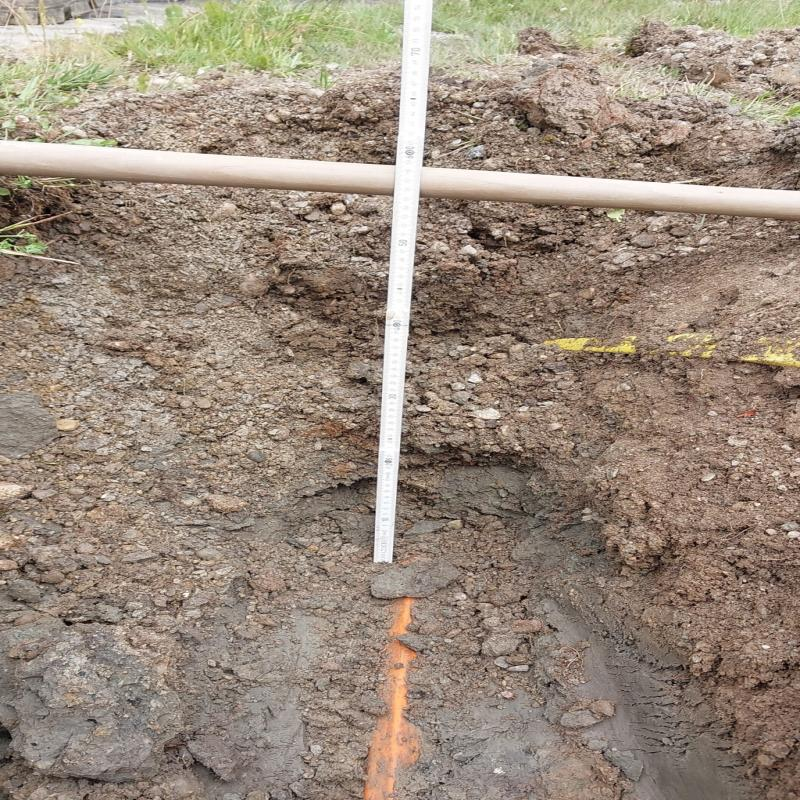Orang-Speednetrohrchen: (367, 599, 416, 793)
